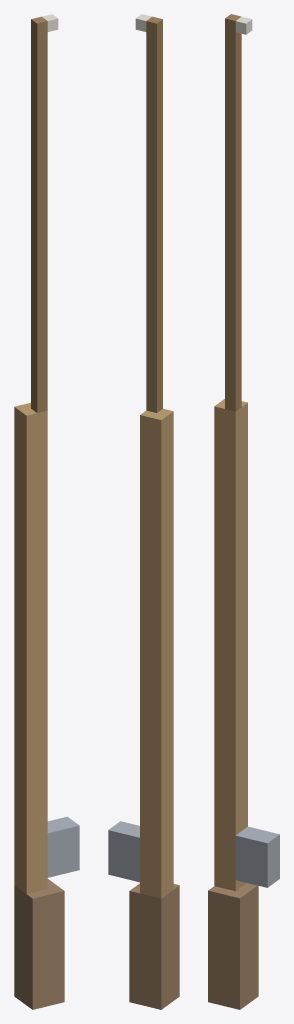
The model's file is fishing_rod.glb.
3 views of the same model, side by side, from view 1: azimuth 30°, elevation 25°; view 2: azimuth 150°, elevation 25°; view 3: azimuth 330°, elevation 25° (orthographic).
Parts seen in each view (by area): view 1: item; view 2: item; view 3: item.
Boxes of the visible parts, x1,y1,x2,y2 form: item: (14,14,79,1009); item: (108,14,179,1009); item: (208,14,279,1009).
Bounding box in the file's own units: 5 × 88 × 3.
